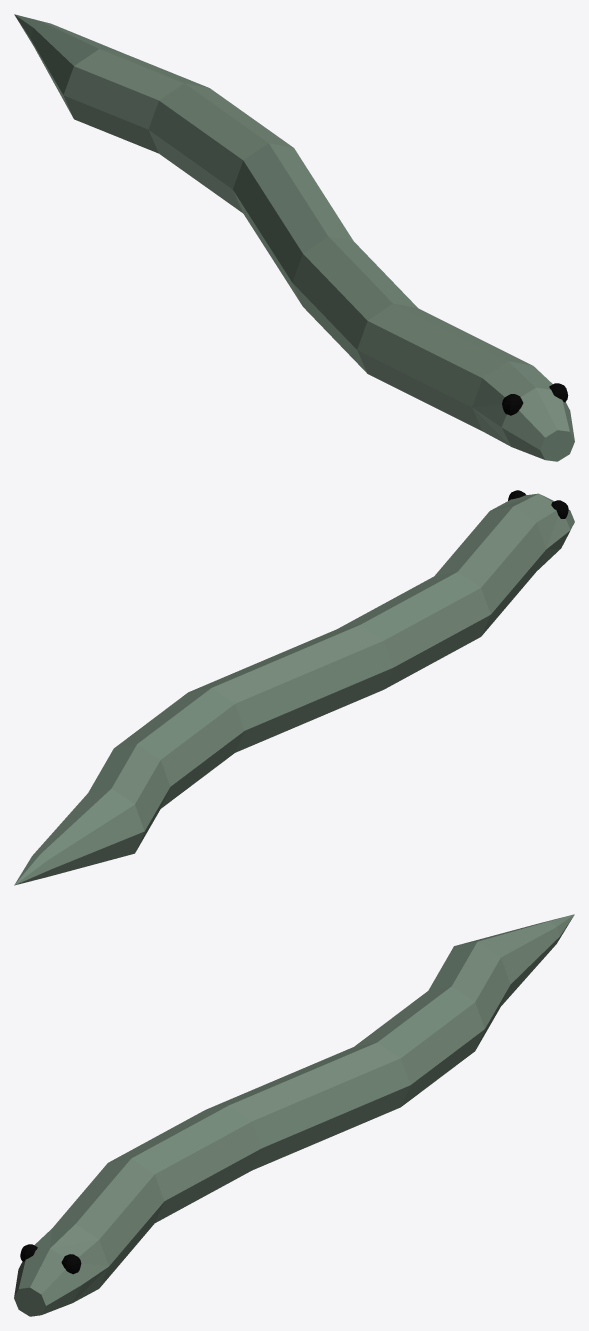
The model's file is MeadowsSnake-sizing.glb.
3 views of the same model, one above another, from view 1: azimuth 30°, elevation 25°; view 2: azimuth 150°, elevation 25°; view 3: azimuth 330°, elevation 25° (orthographic). The views are drawn at different scales.
Parts seen in each view (by area): view 1: |pCylinder2_lambert3, |pCylinder2_lambert2; view 2: |pCylinder2_lambert3; view 3: |pCylinder2_lambert3, |pCylinder2_lambert2.
Part boxes in pixels (box(x1,y1,x2,y2)): |pCylinder2_lambert3: box(14, 14, 574, 461); |pCylinder2_lambert2: box(502, 383, 568, 415); |pCylinder2_lambert3: box(14, 493, 574, 885); |pCylinder2_lambert3: box(14, 914, 574, 1316); |pCylinder2_lambert2: box(20, 1244, 81, 1274).
Size of the model in its own units: 0.5955 by 0.2994 by 4.09.
